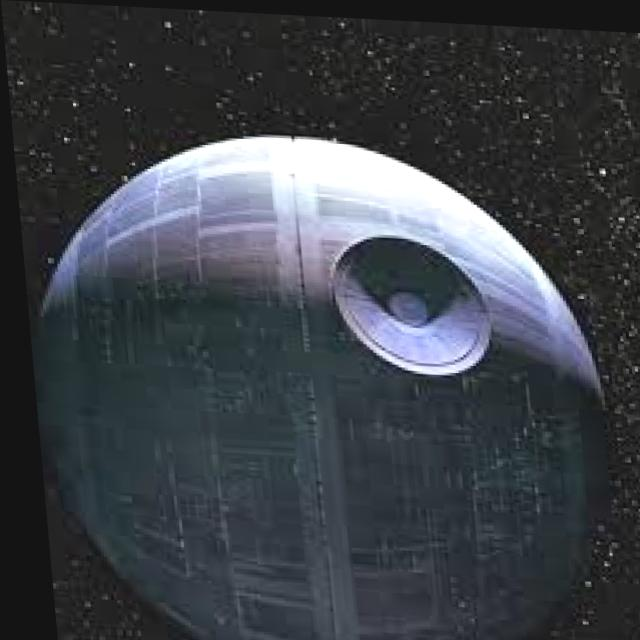deathStar: (13, 123, 615, 640)
